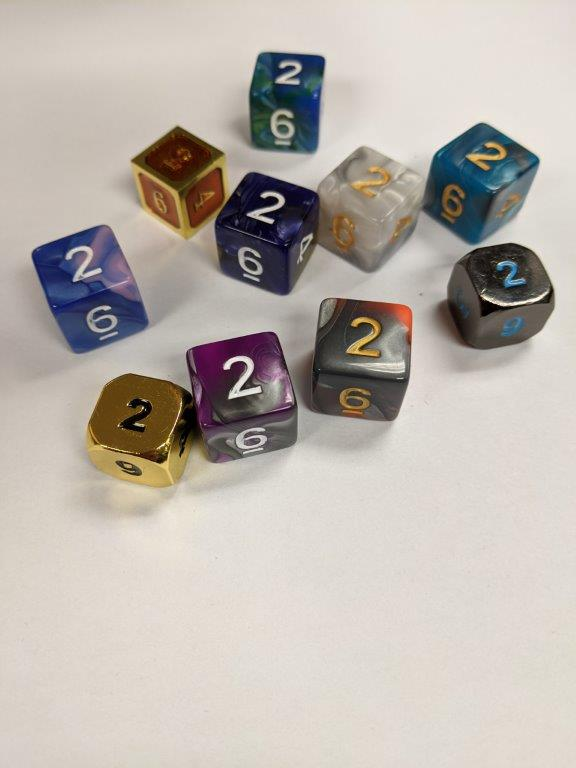d6-2: (30, 224, 148, 360), (187, 331, 298, 464), (424, 120, 539, 243), (312, 143, 423, 270), (83, 374, 197, 489), (447, 238, 558, 354), (309, 299, 412, 421), (214, 172, 319, 287), (130, 128, 228, 236), (247, 51, 326, 148)
